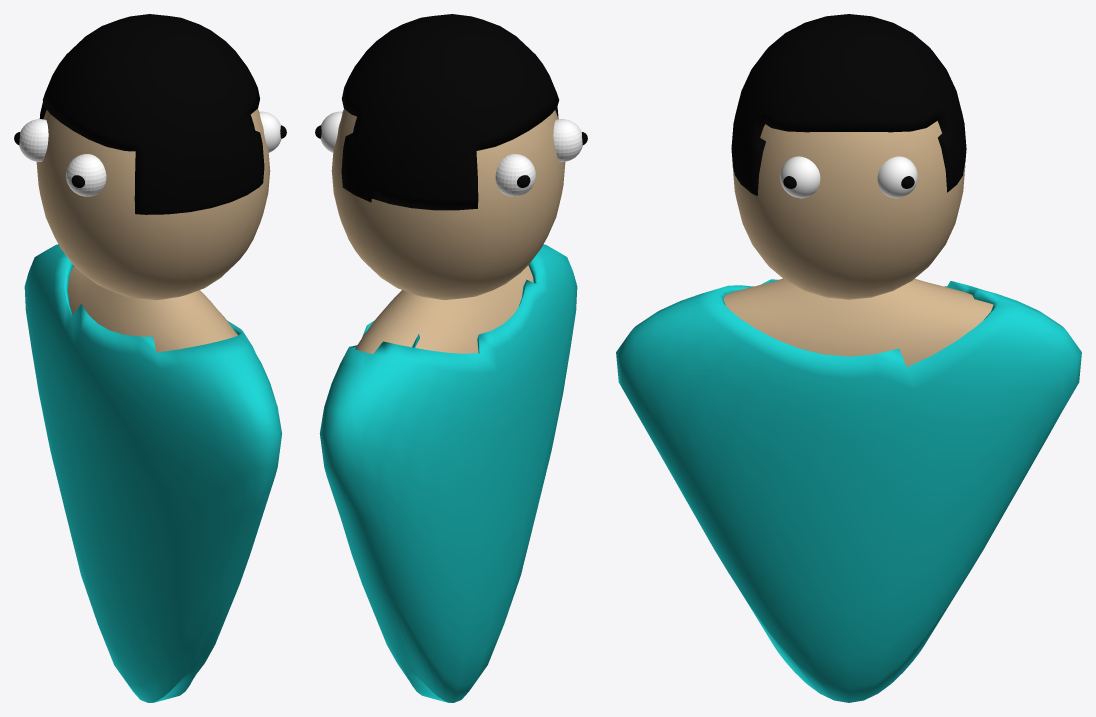
Rendered from player.fbx.
3 views of the same model, side by side, from view 1: azimuth 30°, elevation 25°; view 2: azimuth 150°, elevation 25°; view 3: azimuth 270°, elevation 25° (orthographic).
Visible parts, largest first — view 1: Sphere.002, Cube.001, Cube, Sphere, Sphere.001, Sphere.003; view 2: Sphere.002, Cube.001, Cube, Sphere, Sphere.001, Sphere.003; view 3: Sphere.002, Cube, Cube.001, Sphere, Sphere.003.
Boxes of the visible parts, x1,y1,x2,y2 form: Sphere.002: (24, 244, 282, 702); Cube.001: (39, 14, 264, 214); Cube: (36, 109, 270, 299); Sphere: (68, 266, 237, 352); Sphere.001: (14, 119, 106, 196); Sphere.003: (259, 111, 286, 152); Sphere.002: (319, 244, 577, 702); Cube.001: (341, 14, 559, 210); Cube: (331, 109, 565, 299); Sphere: (355, 265, 533, 353); Sphere.001: (495, 119, 587, 196); Sphere.003: (315, 111, 342, 152); Sphere.002: (616, 279, 1081, 702); Cube: (732, 121, 965, 299); Cube.001: (731, 14, 966, 195); Sphere: (723, 278, 993, 366); Sphere.003: (780, 156, 917, 198).
Bounding box in the file's own units: 132 × 403 × 251.
